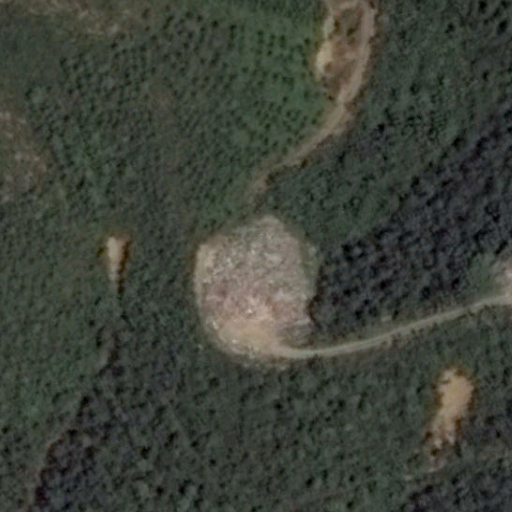msw: (200, 218, 311, 337)
